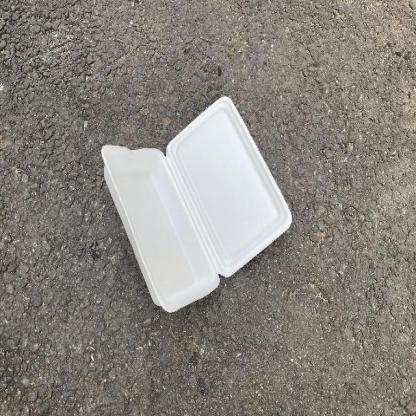Glass Cup: (101, 95, 292, 314), (102, 96, 292, 312)
